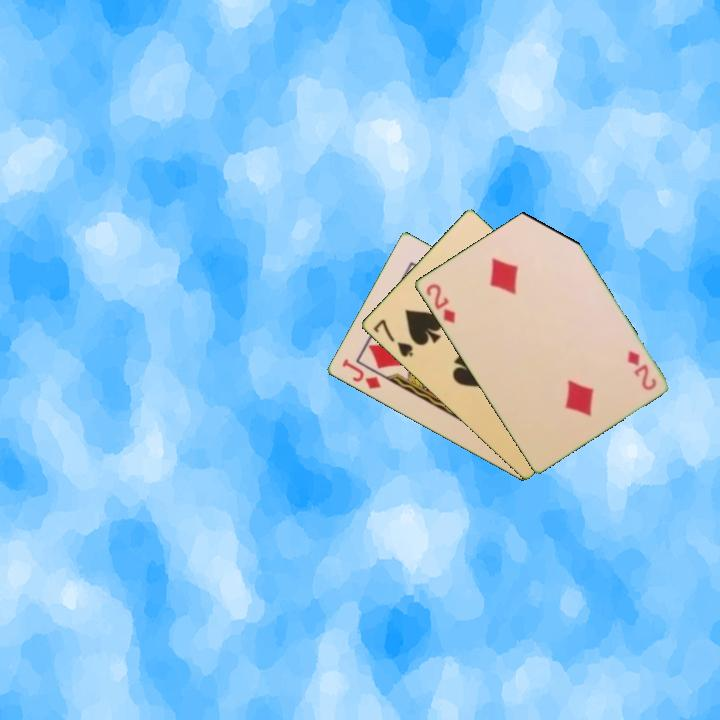2d: (422, 280, 458, 326), (623, 347, 659, 393)
7s: (369, 316, 416, 360)
Jd: (338, 355, 383, 392)
